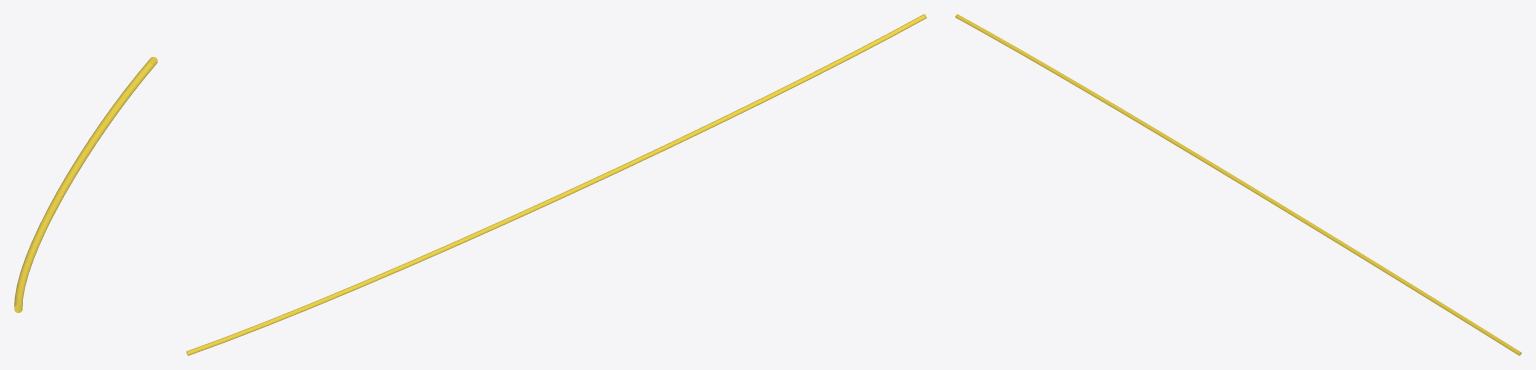
Rendered from Event_100608114_track_45.fbx.
3 renders of one model, left to right at view 1: azimuth 90°, elevation 25°; view 2: azimuth 210°, elevation 25°; view 3: azimuth 330°, elevation 25°, orthographic. The views are drawn at different scales.
Parts seen in each view (by area): view 1: Model; view 2: Model; view 3: Model.
Part boxes in pixels (x1,y1,x2,y2): Model: (14,57,157,312); Model: (186,14,926,355); Model: (955,14,1521,355).
Size of the model in its own units: 6.51 by 1.78 by 0.6759.
